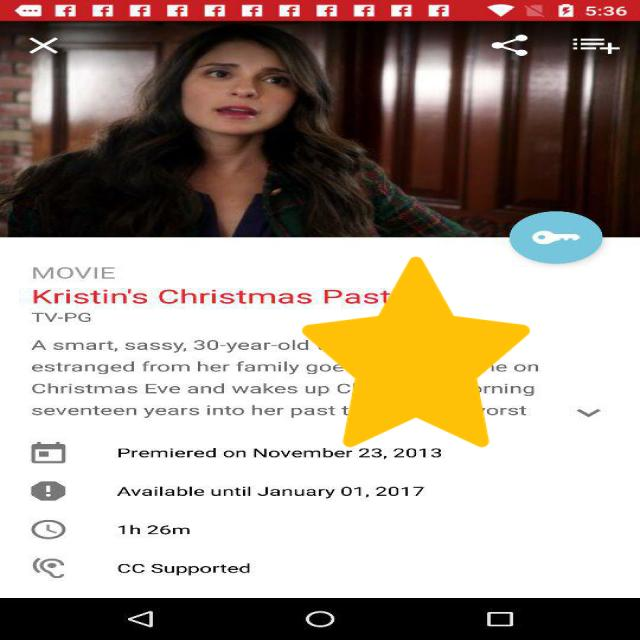forced continuity: (302, 257, 530, 447)
